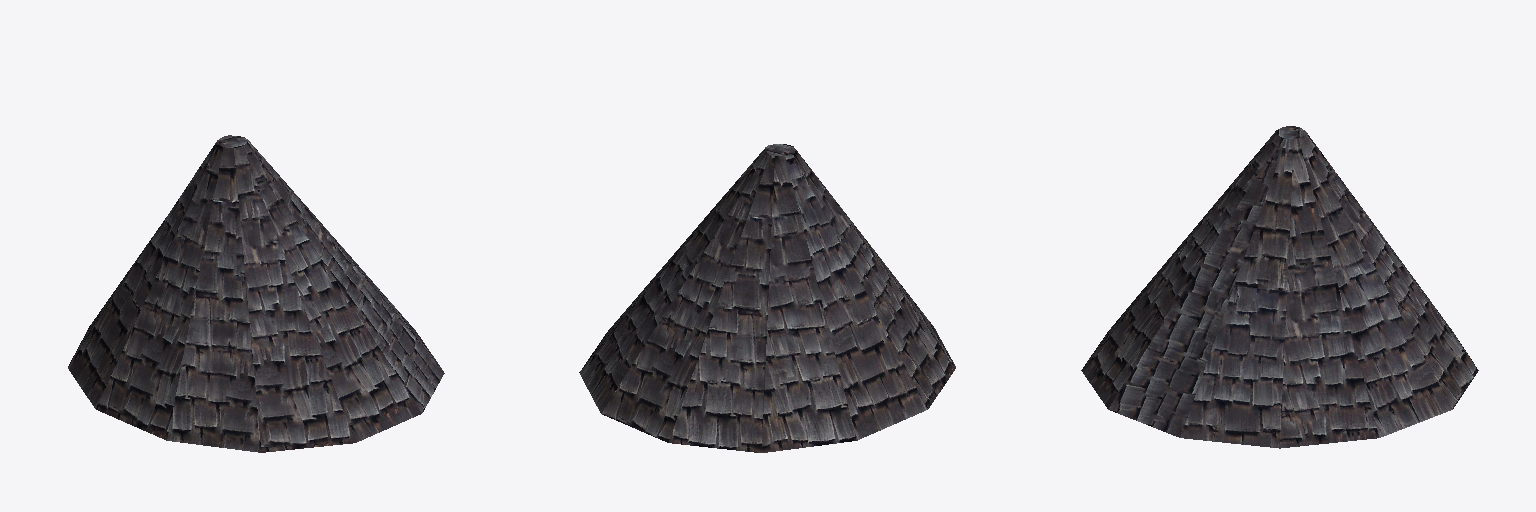
3 views of the same model, side by side, from view 1: azimuth 30°, elevation 25°; view 2: azimuth 150°, elevation 25°; view 3: azimuth 270°, elevation 25° (orthographic).
Parts seen in each view (by area): view 1: Object.1; view 2: Object.1; view 3: Object.1.
Boxes of the visible parts, box(x1,y1,x2,y2) form: Object.1: box(68, 135, 444, 452); Object.1: box(579, 144, 955, 452); Object.1: box(1081, 126, 1478, 448).
Size of the model in its own units: 508 by 347 by 546.
1 materials, 1 textured.